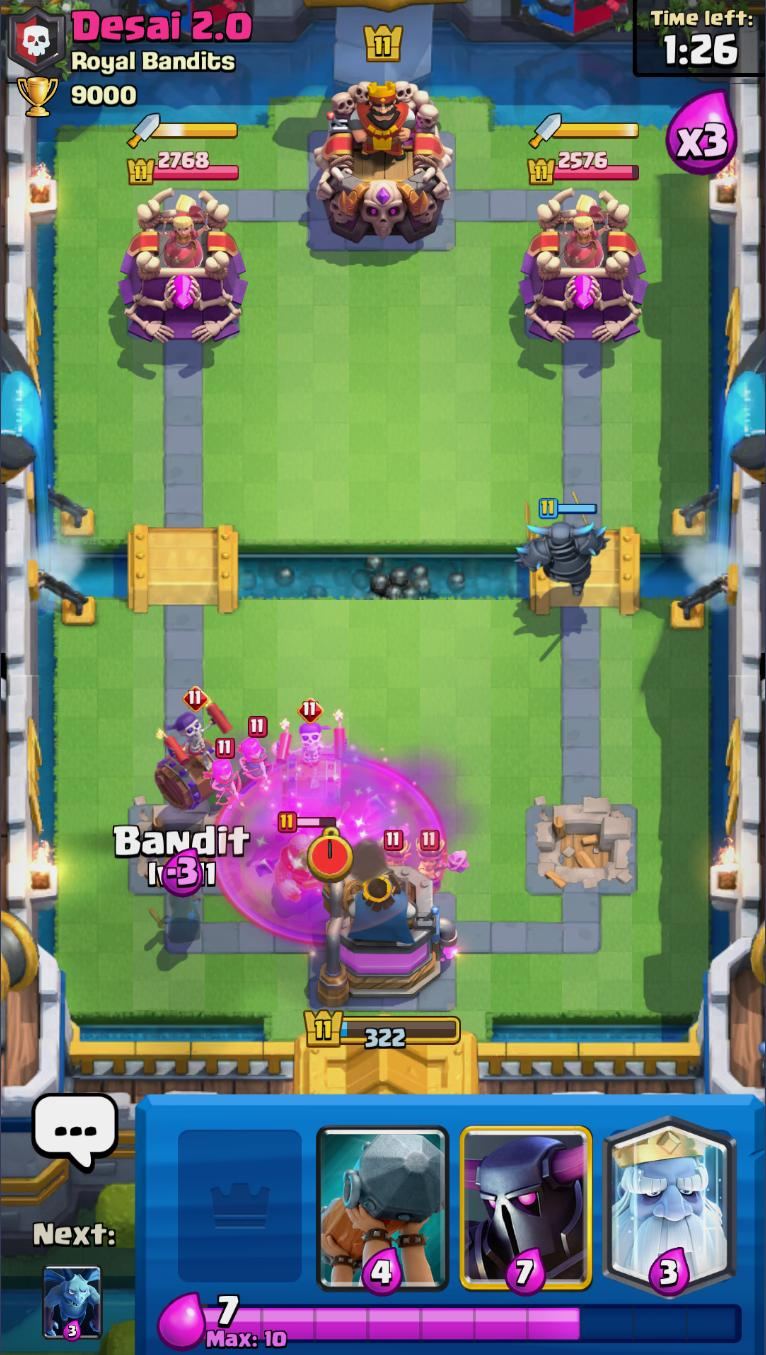Archer: (234, 714, 279, 790), (200, 737, 243, 804)
BattleRamDeck: (309, 1097, 453, 1291)
BushGoblins: (413, 824, 470, 891), (380, 830, 419, 866)
DaggerDuchess: (160, 194, 213, 269), (561, 194, 610, 267)
Daggers: (124, 113, 241, 150), (527, 113, 641, 146)
Elixir: (210, 1293, 749, 1351)
Empty: (166, 1097, 314, 1297)
EnemyTower: (516, 189, 649, 349), (119, 184, 249, 347)
EvoWallBreackers: (153, 680, 234, 809), (271, 696, 353, 817)
KingTower: (314, 76, 456, 246)
Knight: (276, 810, 336, 904)
MinionsNext: (39, 1263, 104, 1343)
MyKingHP: (304, 1010, 461, 1051)
MyKingTower: (311, 856, 461, 1009)
MyPekka: (519, 489, 610, 597)
MyPrincessTowerBrocken: (124, 797, 246, 899), (526, 799, 640, 893)
PekkaDeck: (453, 1097, 599, 1293)
Rage: (214, 751, 446, 944)
RoyaleGhostDeck: (597, 1097, 741, 1297)
TowerPrincessHP: (526, 147, 641, 187), (127, 150, 243, 187)
